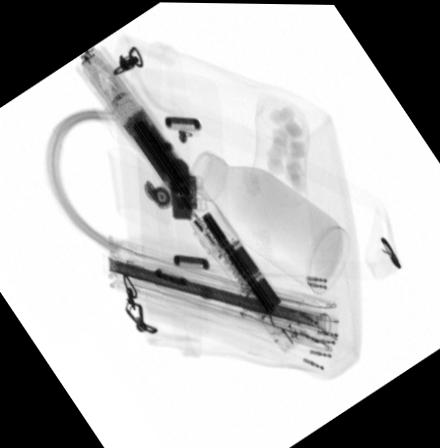Baton: (69, 41, 310, 356)
